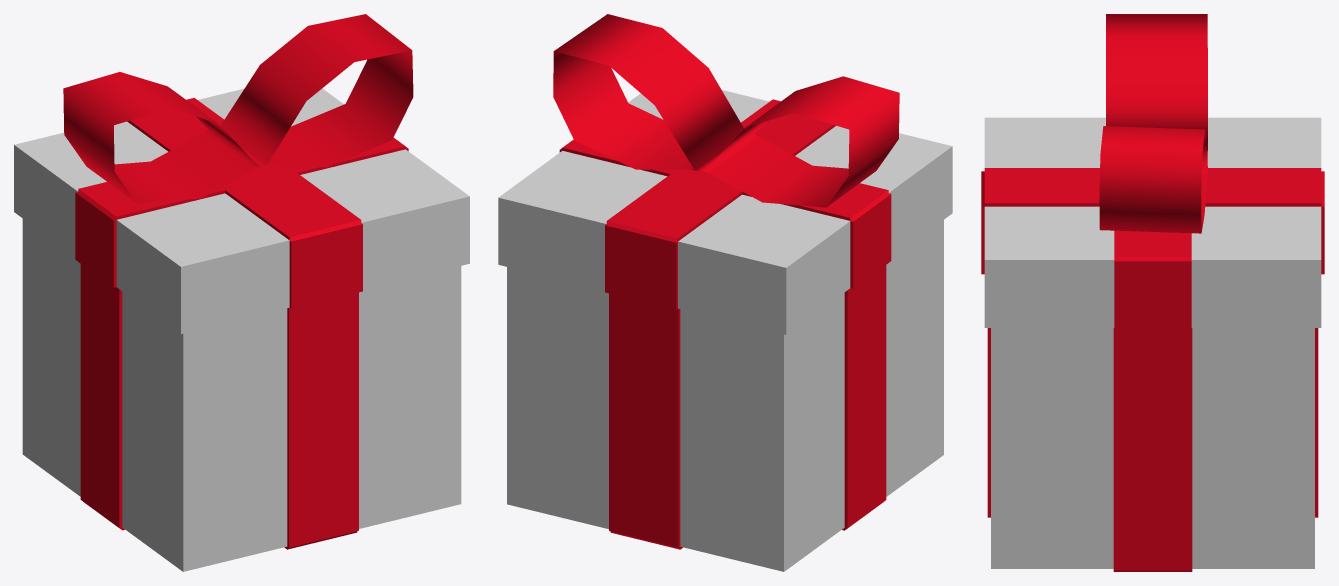
The model's file is kado.fbx.
3 renders of one model, left to right at view 1: azimuth 30°, elevation 25°; view 2: azimuth 150°, elevation 25°; view 3: azimuth 270°, elevation 25°, orthographic.
Visible parts, largest first — view 1: Cube; view 2: Cube; view 3: Cube.
Boxes of the visible parts, left/top/right/bottom form: Cube: left=14, top=14, right=469, bottom=571; Cube: left=498, top=14, right=952, bottom=571; Cube: left=981, top=14, right=1324, bottom=571.
Size of the model in its own units: 0.4473 by 0.5931 by 0.4392.
